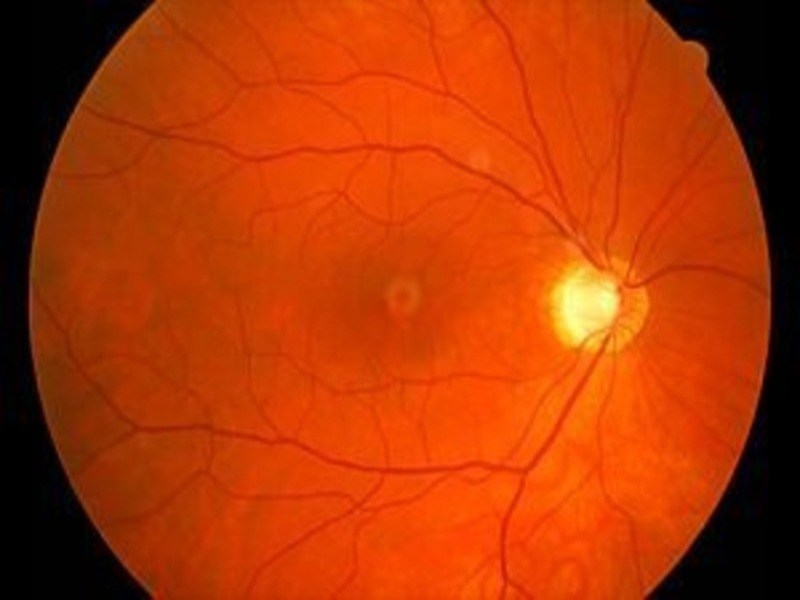Optic Cup: (551, 268, 617, 341)
Optic Disc: (536, 251, 653, 353)
